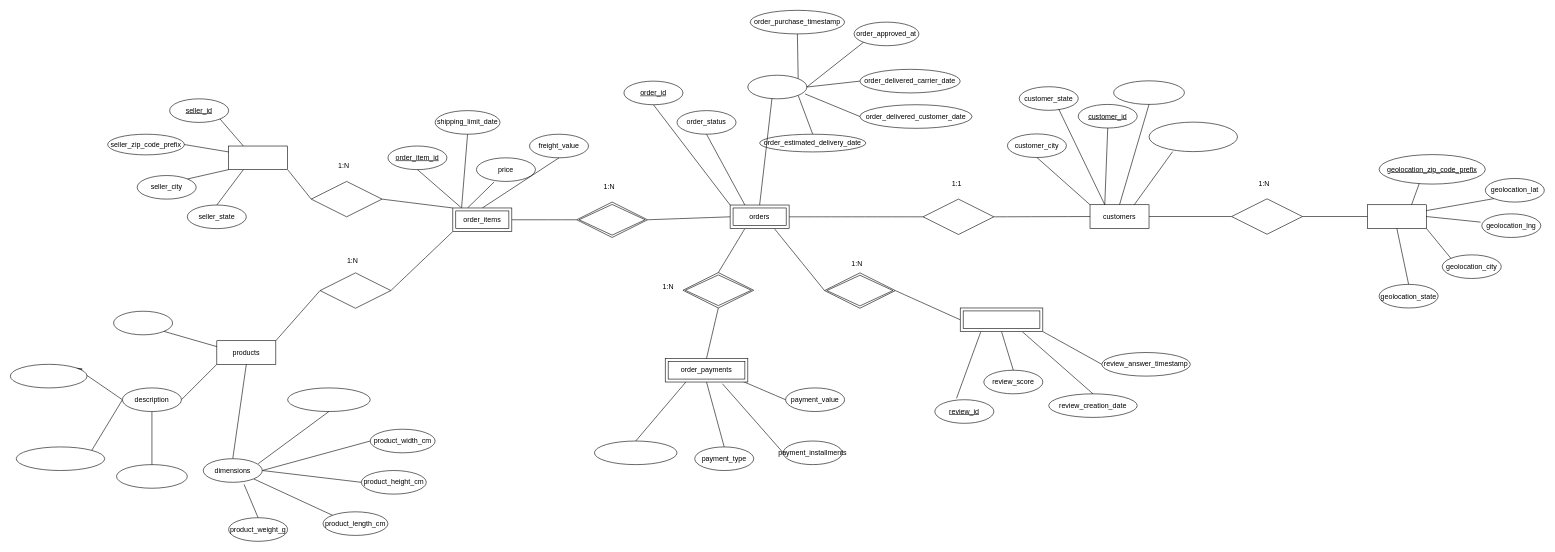
Some shapes in this 1555 by 552 pixel diagram are drawn without their labels. Here are the shapes that lost their labels. From the top down, the box of each, then its label:
(747, 75, 807, 99): timestamp
(1113, 80, 1184, 104): customer_unique_id
(1148, 122, 1238, 152): customer_zip_code_prefix
(228, 145, 288, 170): sellers
(311, 181, 382, 217): vender
(576, 201, 648, 237): contener
(922, 199, 994, 235): realizar
(1231, 198, 1302, 234): pertenecer
(1367, 204, 1426, 228): geo_location
(319, 272, 391, 308): corresponder
(682, 272, 754, 308): pagar
(824, 272, 895, 308): Recibir
(113, 311, 173, 335): product_id
(960, 307, 1043, 332): order_review_ratings
(10, 364, 87, 388): product_name_lenght
(287, 387, 370, 412): product_category_name
(16, 446, 105, 471): product_description_lenght
(594, 440, 677, 465): payment_sequential
(116, 464, 187, 488): product_photos_qty
